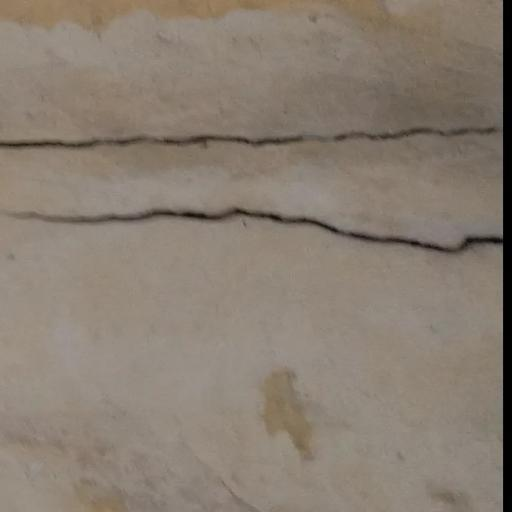major_crack: (0, 197, 500, 262), (0, 101, 512, 158)
